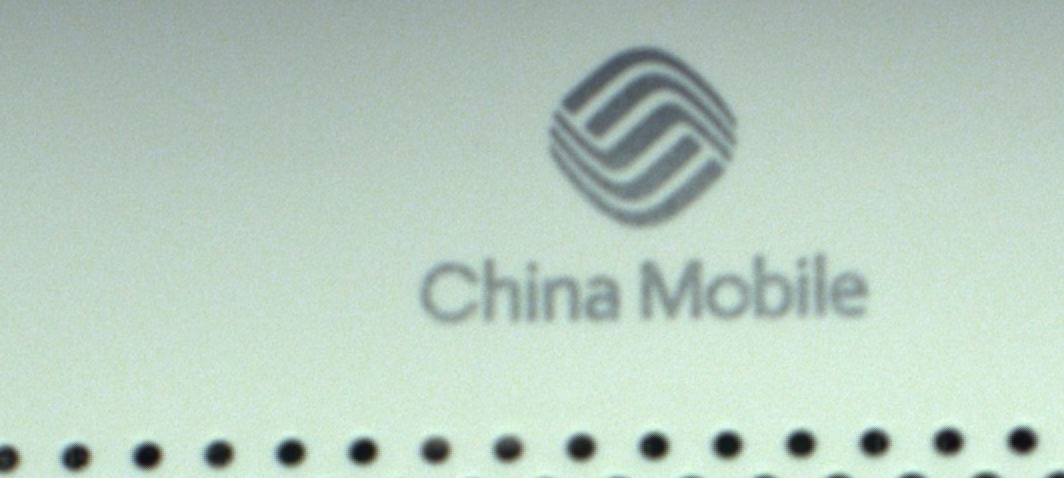AA_ChinaMobile: (411, 44, 873, 325)
